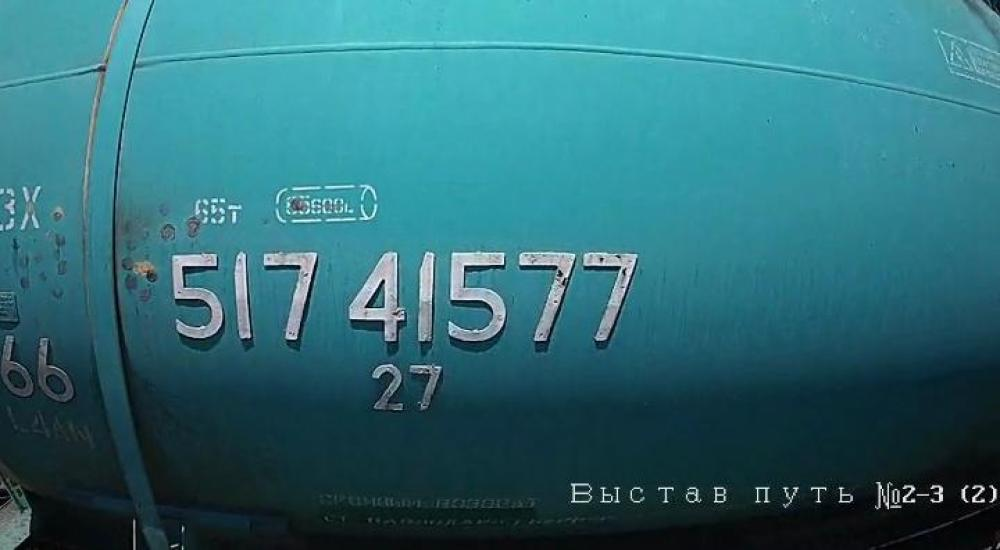Wagon-number: (166, 239, 646, 360)
